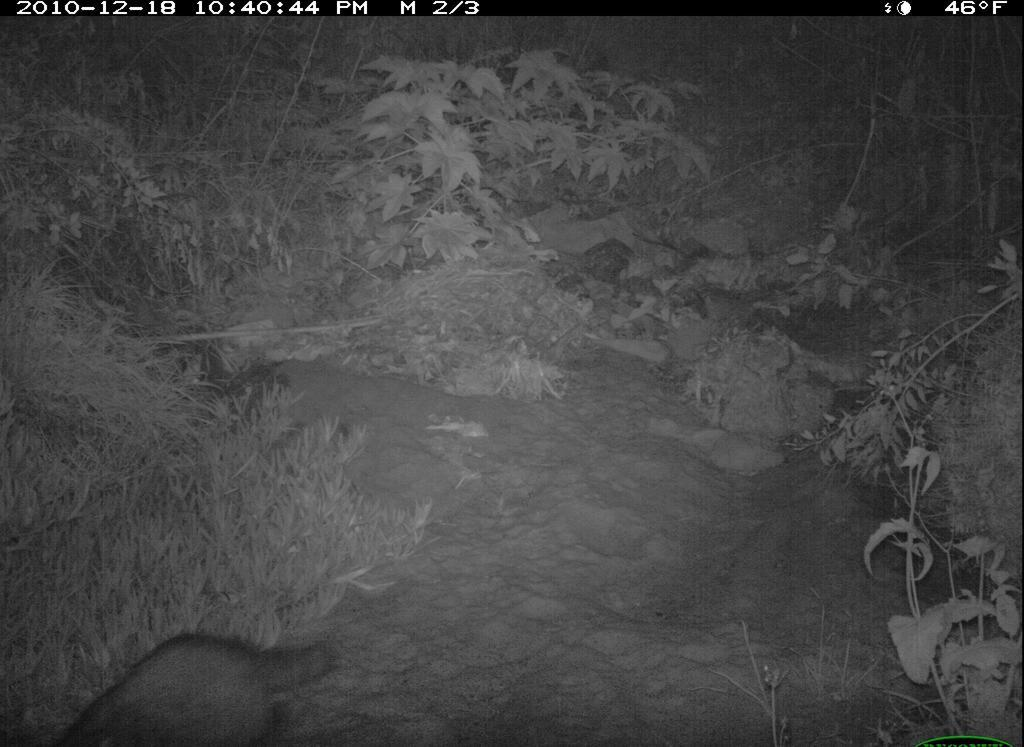raccoon: (39, 626, 340, 747)
